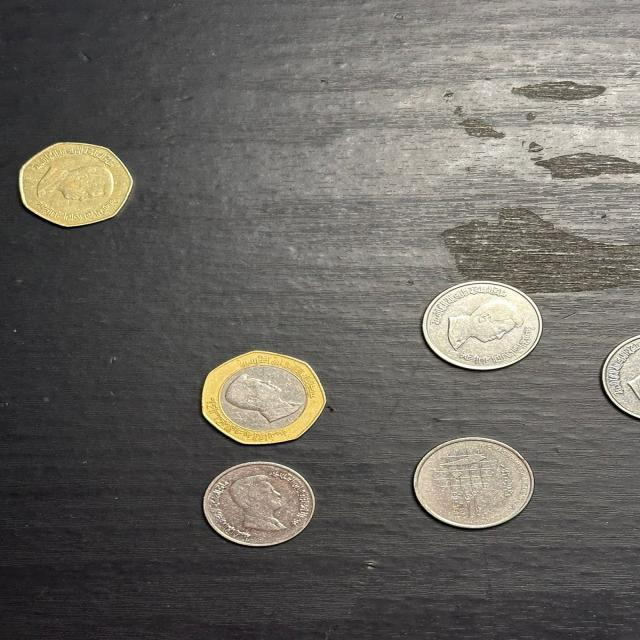10-coins: (413, 436, 538, 530), (423, 280, 550, 372), (600, 335, 640, 421)
25-coins: (16, 141, 140, 230)
5-coins: (200, 461, 317, 548)
50-coins: (204, 348, 330, 446)
